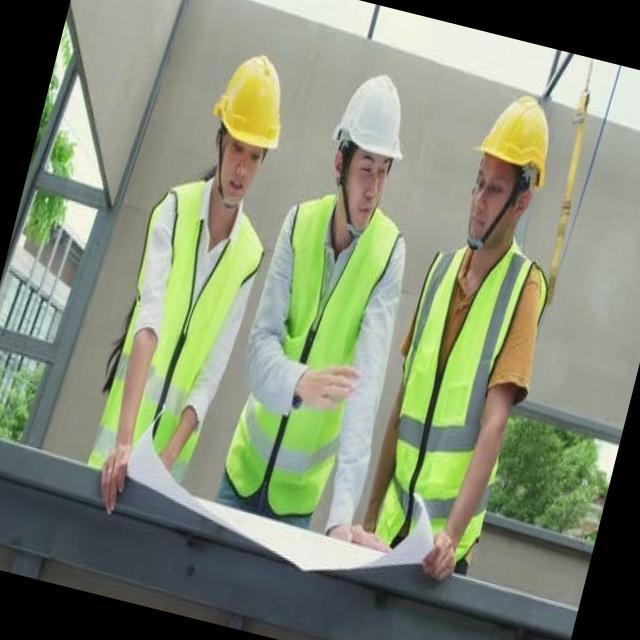Helmet: (190, 20, 318, 168), (313, 54, 440, 194), (460, 78, 573, 225)
Vest: (84, 160, 280, 508), (352, 225, 552, 562), (220, 188, 398, 532)
